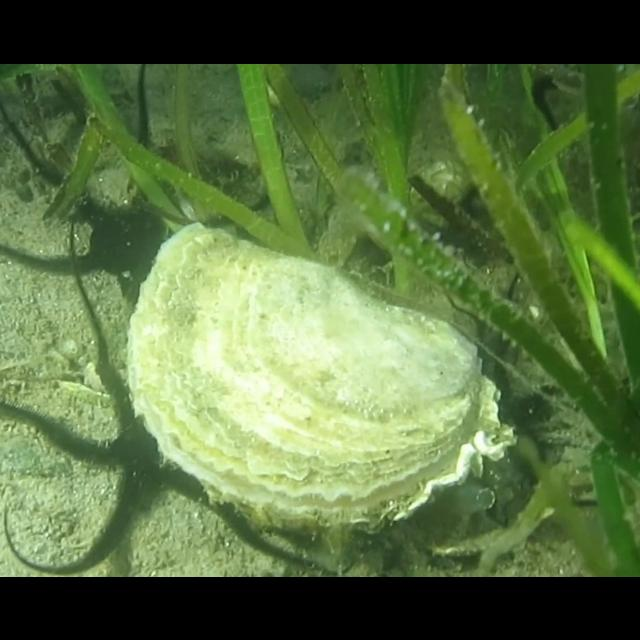Oyster-Open: (125, 218, 518, 530)
